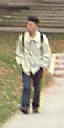person: (14, 16, 50, 108)
